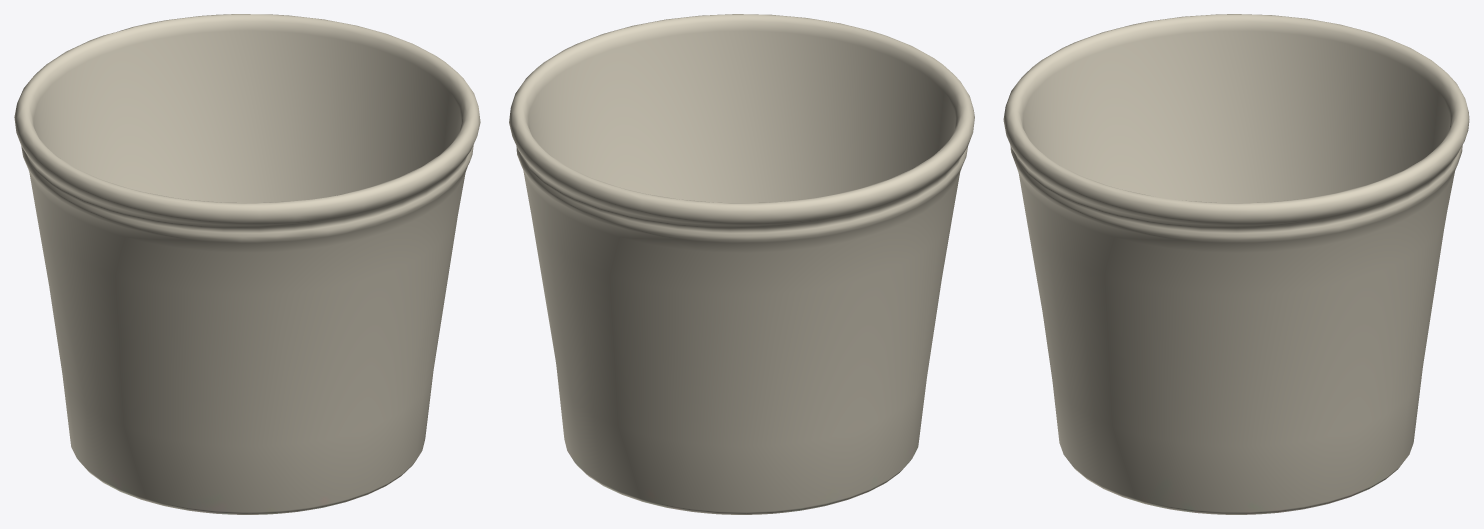
File: korsbarsbjork_osonka_doniczki_00591719.glb
The picture shows the model from 3 angles, left to right: view 1: azimuth 30°, elevation 25°; view 2: azimuth 150°, elevation 25°; view 3: azimuth 270°, elevation 25°; orthographic projection.
Parts seen in each view (by area): view 1: korsbarsbjork_osonka_doniczki_00591719; view 2: korsbarsbjork_osonka_doniczki_00591719; view 3: korsbarsbjork_osonka_doniczki_00591719.
Part boxes in pixels (x1=…): korsbarsbjork_osonka_doniczki_00591719: x1=14, y1=14, x2=480, y2=514; korsbarsbjork_osonka_doniczki_00591719: x1=509, y1=14, x2=974, y2=514; korsbarsbjork_osonka_doniczki_00591719: x1=1003, y1=14, x2=1469, y2=514.
Size of the model in its own units: 0.1541 by 0.1215 by 0.1541.
1 material, 1 textured.
